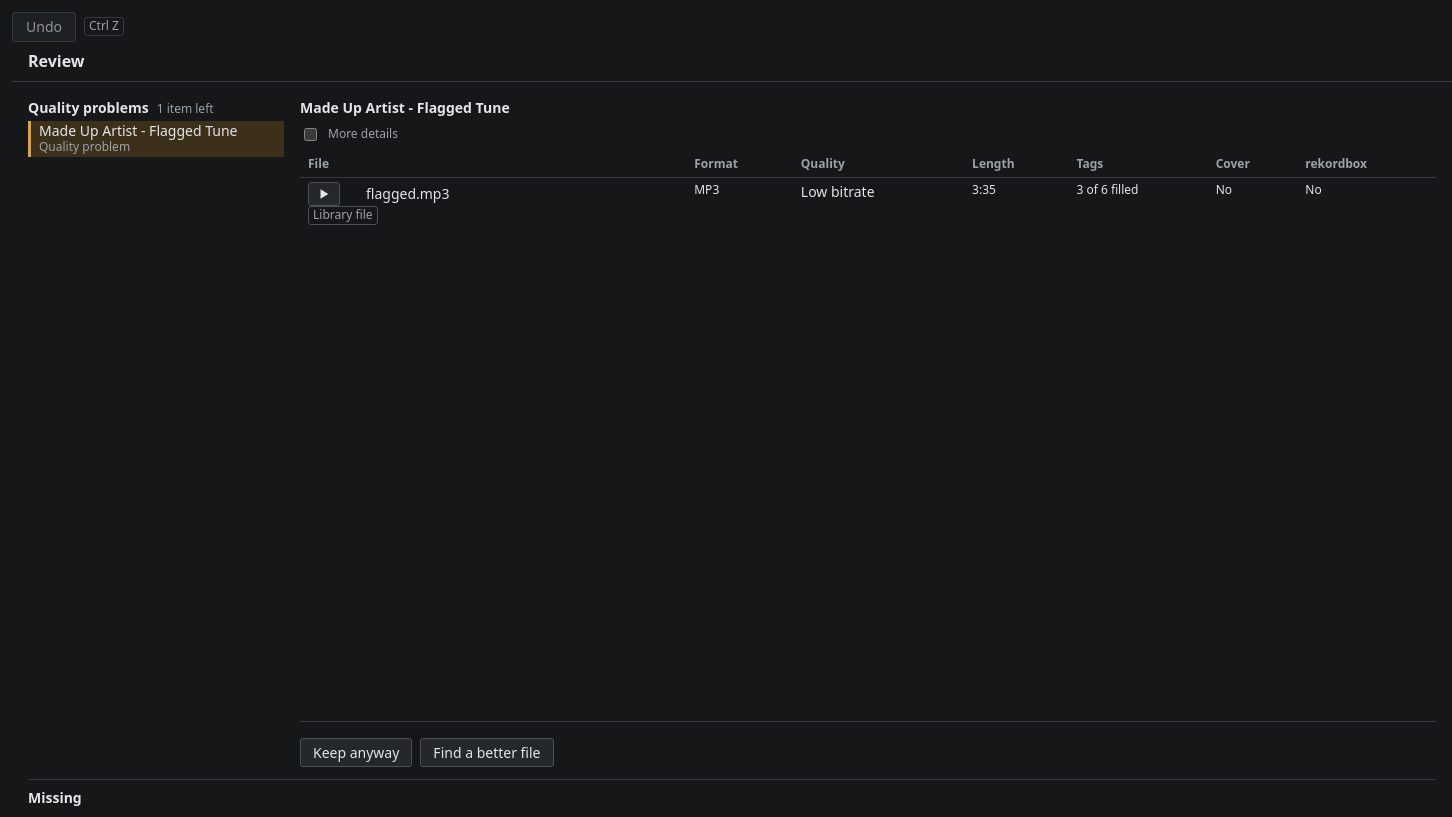
Test case: a Quality problem item › says why when the action is refused, and asks for the queue again
Click the button "Keep anyway". click: [356, 753]
box: [300,738,412,767]
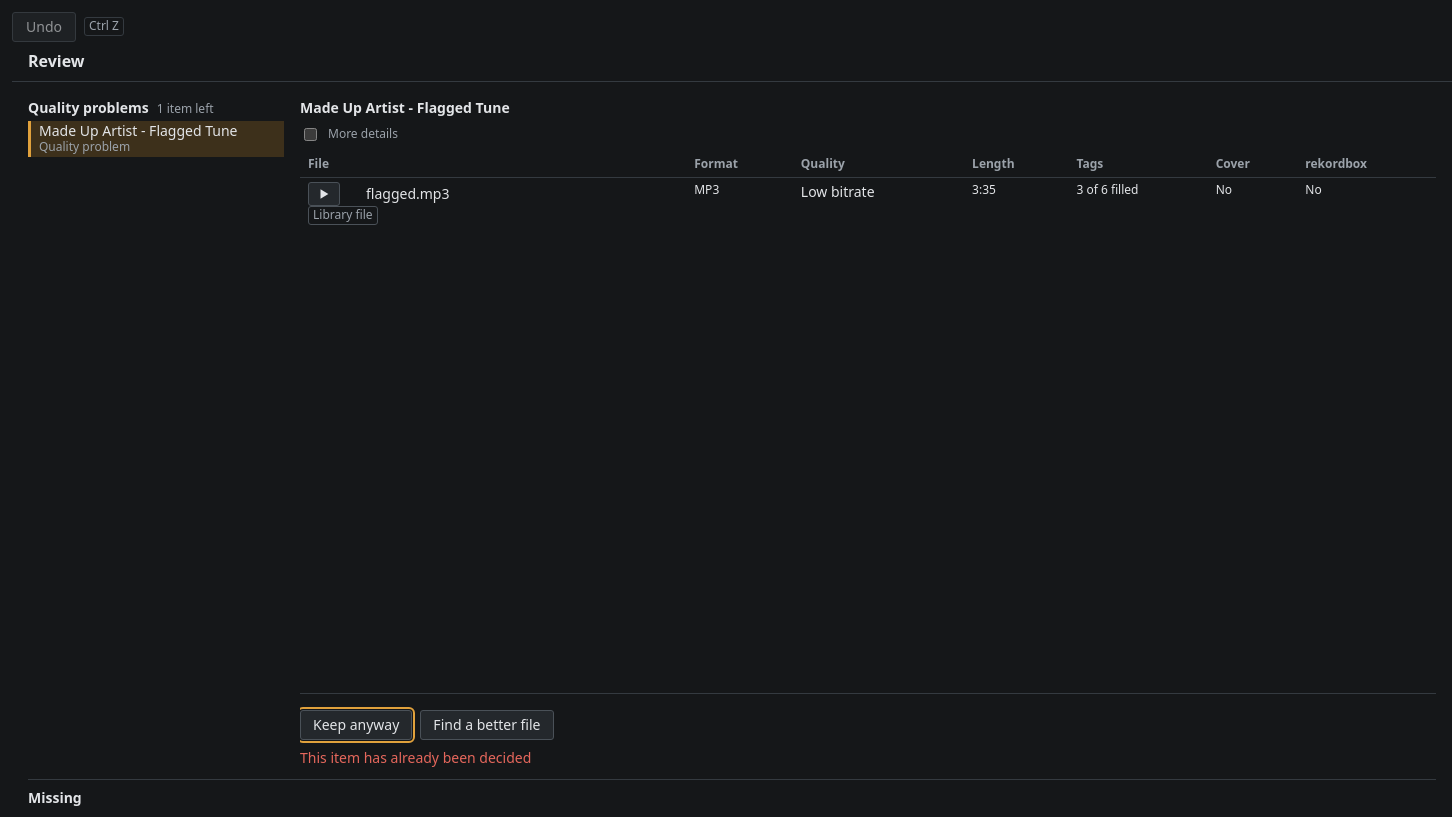
expect the message reads "This item has already been decided": met, box [300,748,531,767]
